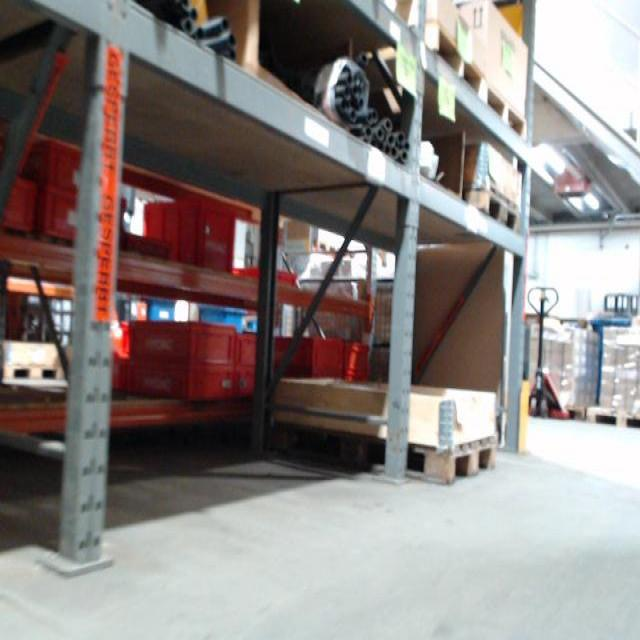pallet: (268, 428, 501, 483), (417, 13, 485, 103), (462, 182, 526, 235), (483, 75, 530, 145), (587, 405, 638, 432), (2, 363, 60, 385)
pallet_truck: (525, 280, 578, 427)
small_load_carrier: (141, 198, 238, 275), (127, 319, 238, 363), (16, 136, 96, 193), (128, 365, 232, 404), (33, 190, 93, 248), (271, 331, 344, 361), (1, 180, 40, 235), (230, 265, 299, 287), (274, 361, 344, 382), (234, 331, 278, 360), (235, 370, 262, 399), (341, 339, 371, 362), (341, 365, 371, 382)
